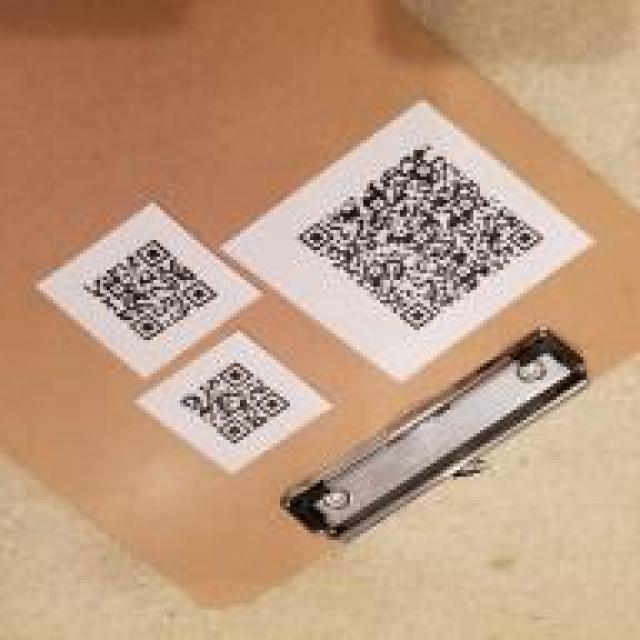qr_code: (296, 146, 544, 330), (83, 239, 219, 341), (180, 364, 291, 444)
